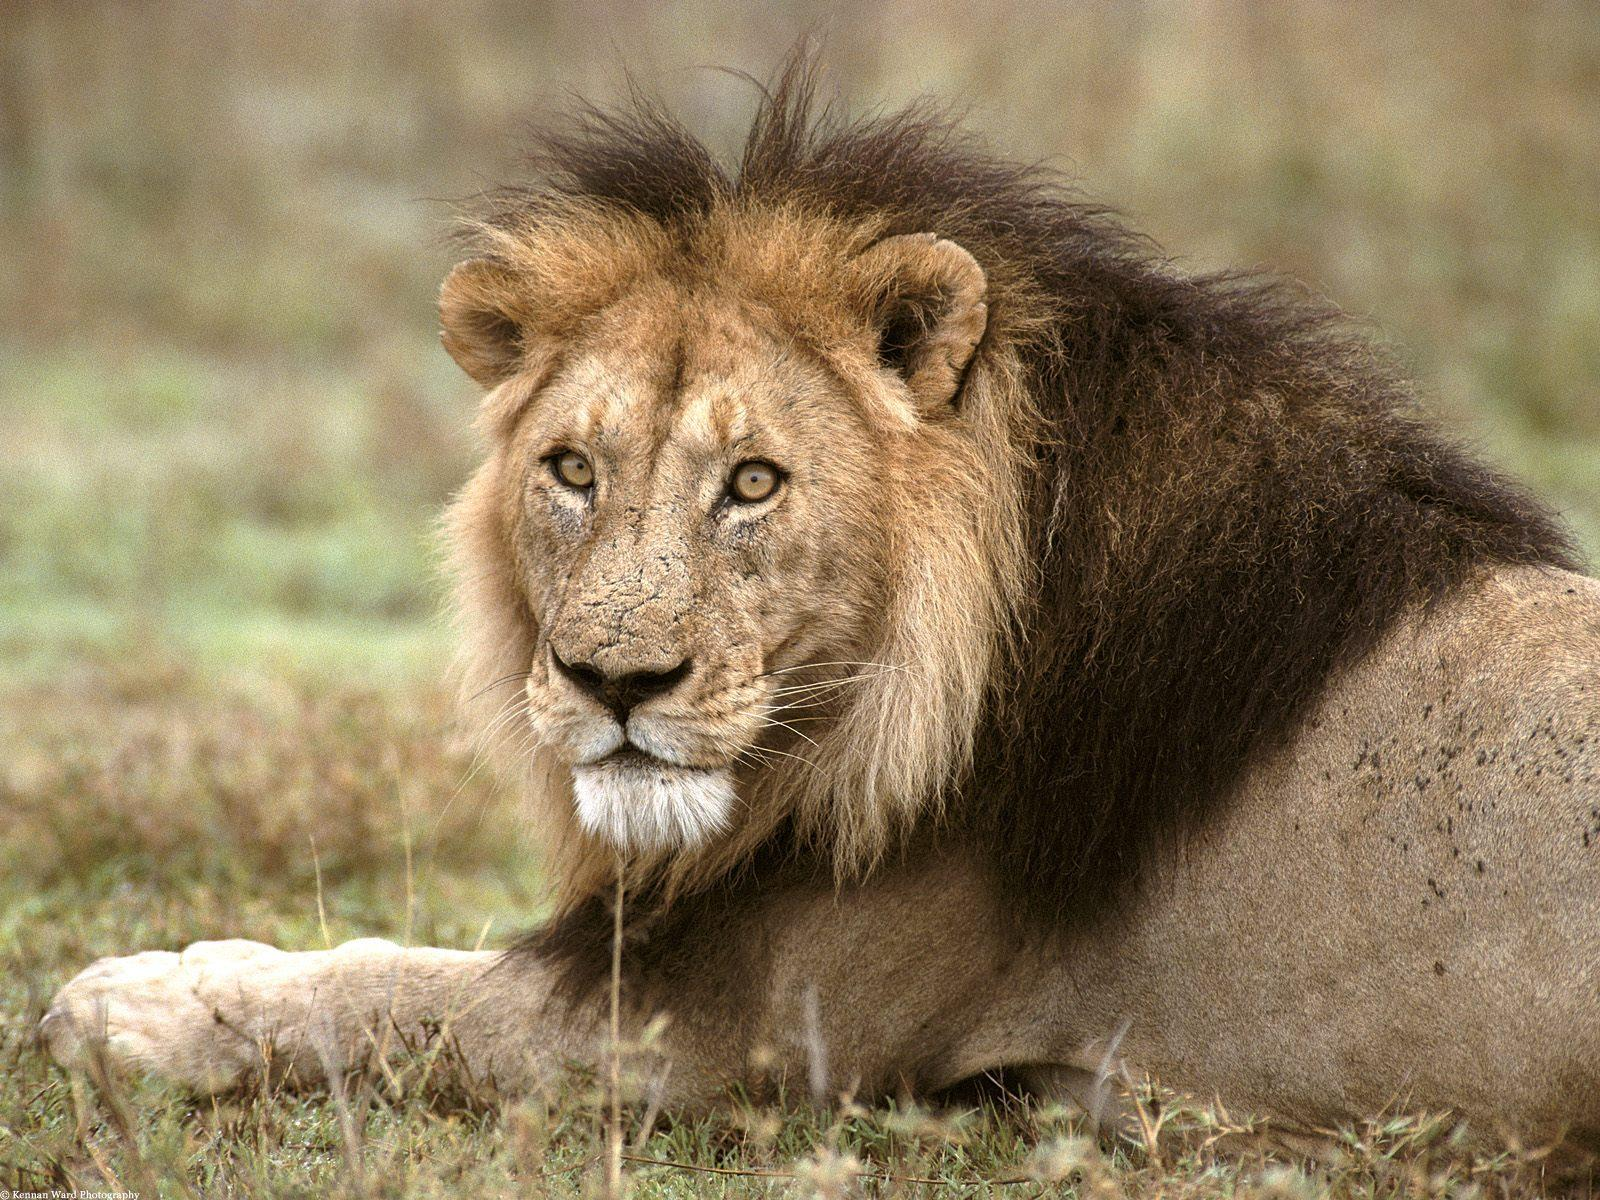lions: (40, 98, 1600, 1200)
